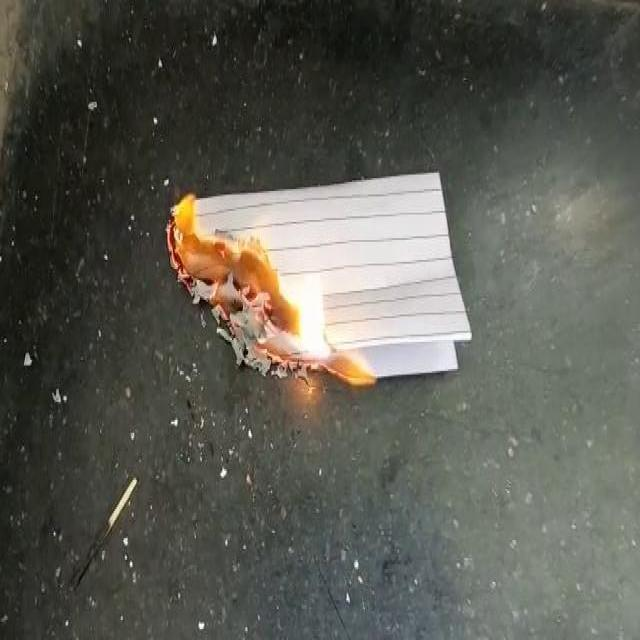Fire: (153, 175, 384, 396)
